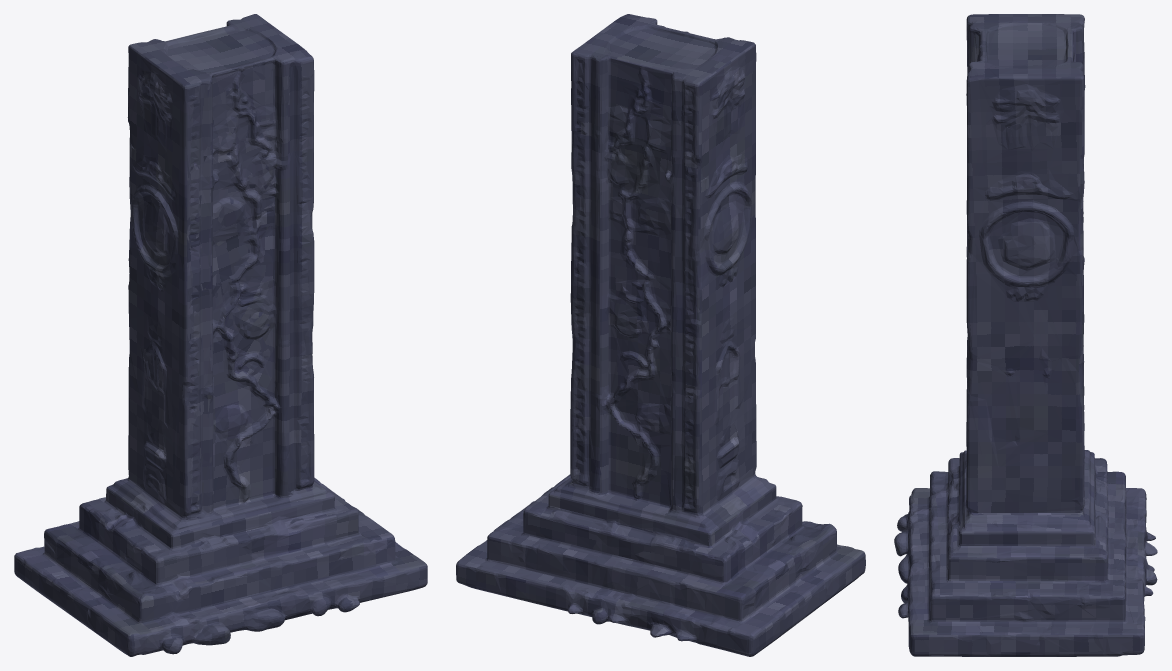
Rendered from weathered-monolith-pillar-generated-2026-04-19T23-27-04-251Z.medium.glb.
3 renders of one model, left to right at view 1: azimuth 30°, elevation 25°; view 2: azimuth 150°, elevation 25°; view 3: azimuth 270°, elevation 25°, orthographic.
Visible parts, largest first — view 1: temp_mesh.ply; view 2: temp_mesh.ply; view 3: temp_mesh.ply.
Boxes of the visible parts, x1,y1,x2,y2 form: temp_mesh.ply: (14,14,427,656); temp_mesh.ply: (456,14,865,656); temp_mesh.ply: (894,14,1157,656).
Size of the model in its own units: 1.17 by 1.97 by 0.8742.
1 material, 1 textured.
